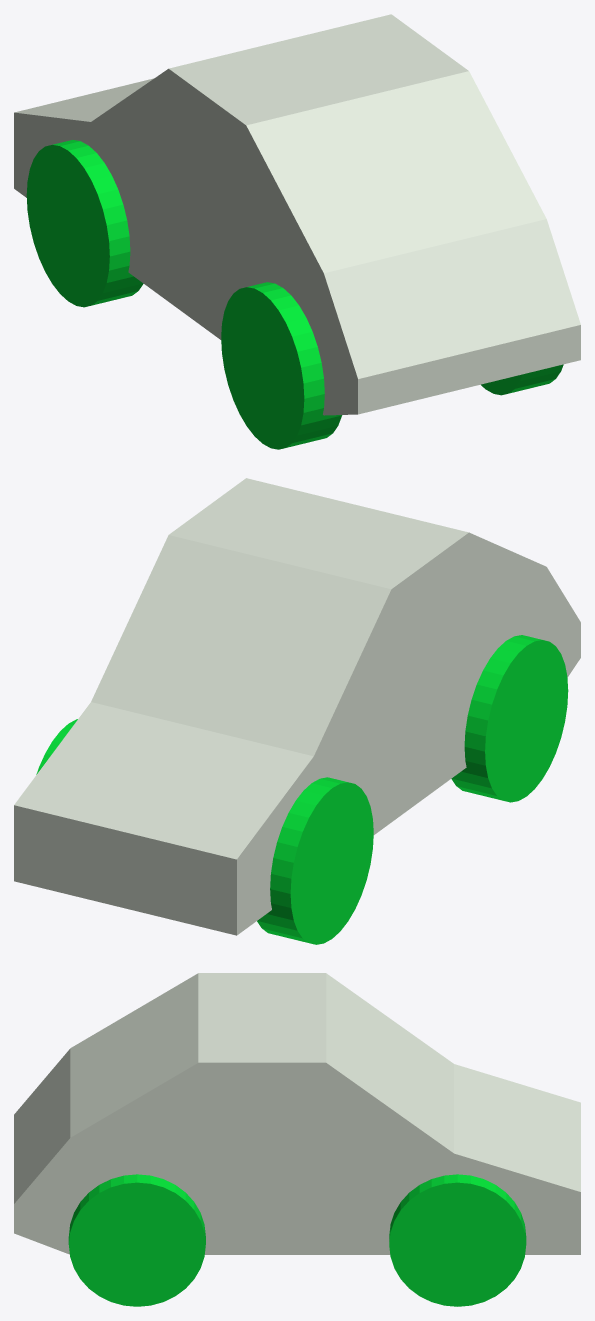
Rendered from LP_Car.fbx.
3 renders of one model, top to bottom at view 1: azimuth 30°, elevation 25°; view 2: azimuth 150°, elevation 25°; view 3: azimuth 270°, elevation 25°, orthographic. The views are drawn at different scales.
Parts seen in each view (by area): view 1: Car, Wheel.002, Wheel, Wheel.001; view 2: Car, Wheel, Wheel.002; view 3: Car, Wheel.003, Wheel.001.
Boxes of the visible parts, x1,y1,x2,y2 form: Car: (14, 14, 580, 415); Wheel.002: (221, 282, 342, 449); Wheel: (26, 140, 143, 307); Wheel.001: (481, 364, 563, 395); Car: (14, 478, 580, 935); Wheel: (257, 777, 373, 944); Wheel.002: (451, 635, 568, 802); Car: (14, 973, 580, 1254); Wheel.003: (389, 1174, 526, 1306); Wheel.001: (68, 1174, 205, 1306).
Bounding box in the file's own units: 237 × 245 × 535.
